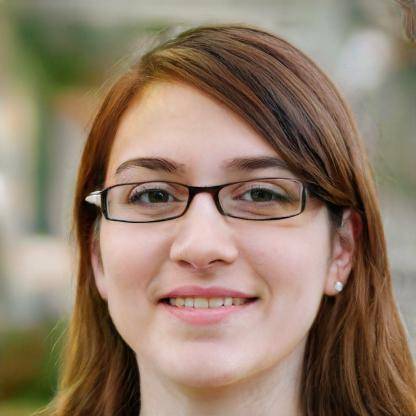glasses: (96, 172, 312, 231)
